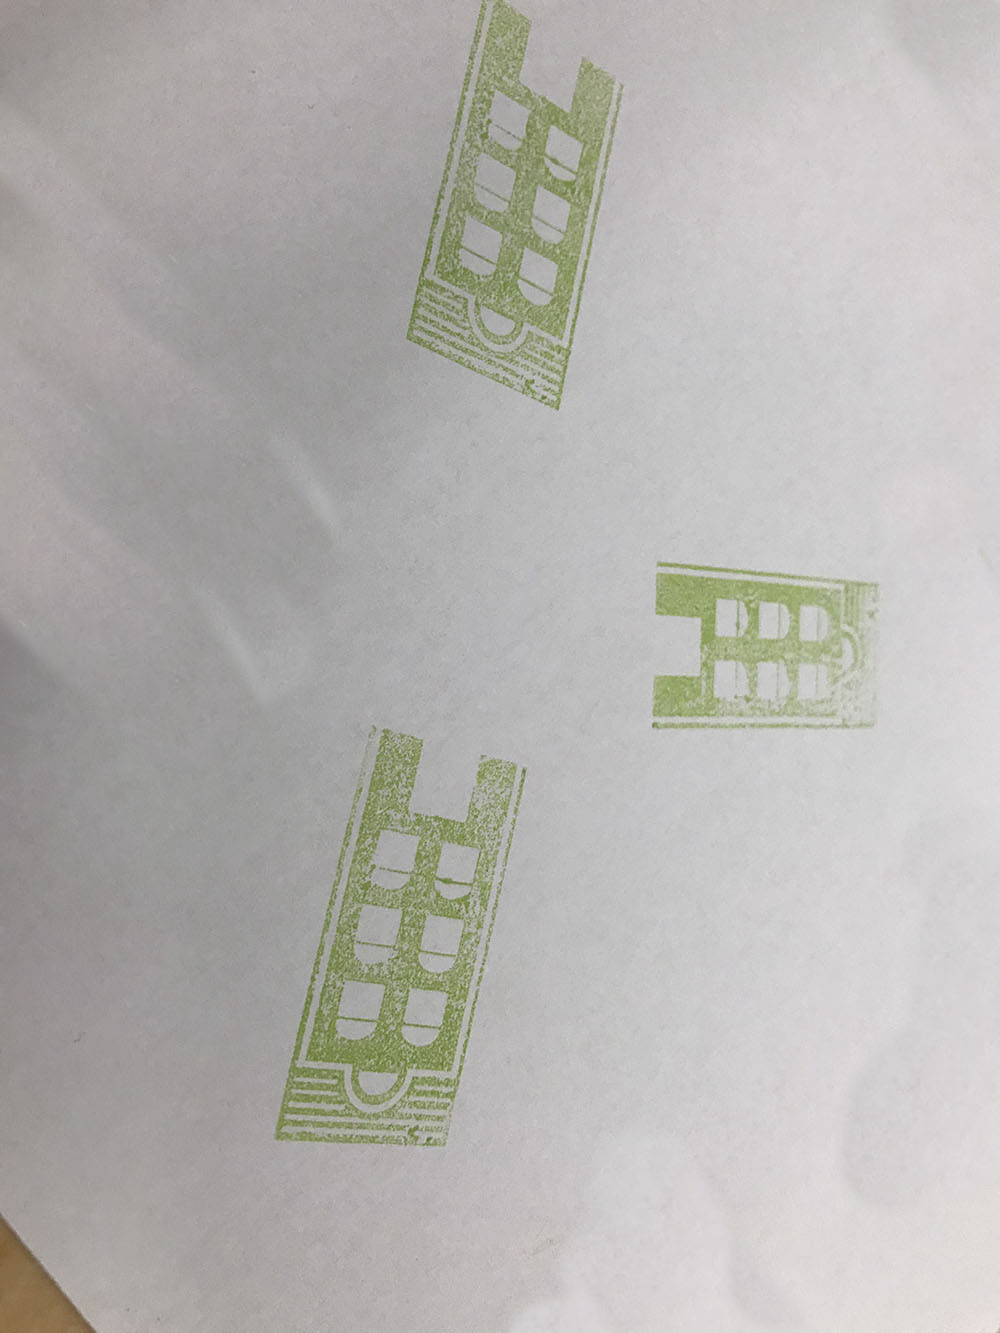build: (247, 694, 540, 1181), (392, 1, 643, 435), (607, 535, 902, 764)
